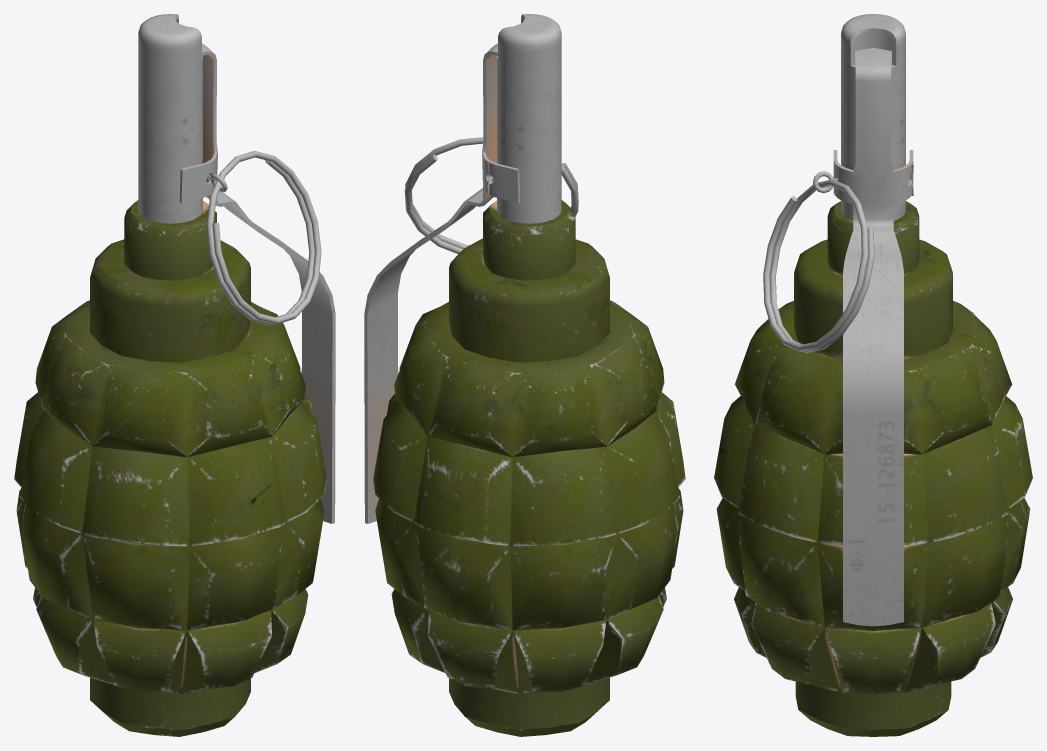
3 renders of one model, left to right at view 1: azimuth 30°, elevation 25°; view 2: azimuth 150°, elevation 25°; view 3: azimuth 270°, elevation 25°, orthographic.
Parts seen in each view (by area): view 1: Base_Low, Up_Low, Bracket_Low, Circle_Low; view 2: Base_Low, Up_Low, Bracket_Low, Circle_Low; view 3: Base_Low, Bracket_Low, Up_Low, Circle_Low.
Part boxes in pixels (x1,y1,x2,y2): Base_Low: [14, 200, 326, 736]; Up_Low: [138, 14, 202, 223]; Bracket_Low: [179, 43, 335, 523]; Circle_Low: [206, 150, 321, 325]; Base_Low: [373, 200, 685, 736]; Up_Low: [497, 14, 561, 223]; Bracket_Low: [364, 43, 520, 523]; Circle_Low: [404, 137, 578, 254]; Base_Low: [714, 201, 1032, 736]; Bracket_Low: [833, 51, 913, 626]; Up_Low: [841, 14, 905, 220]; Circle_Low: [763, 164, 913, 352].
Bounding box in the file's own units: 0.0506 × 0.115 × 0.0485.
